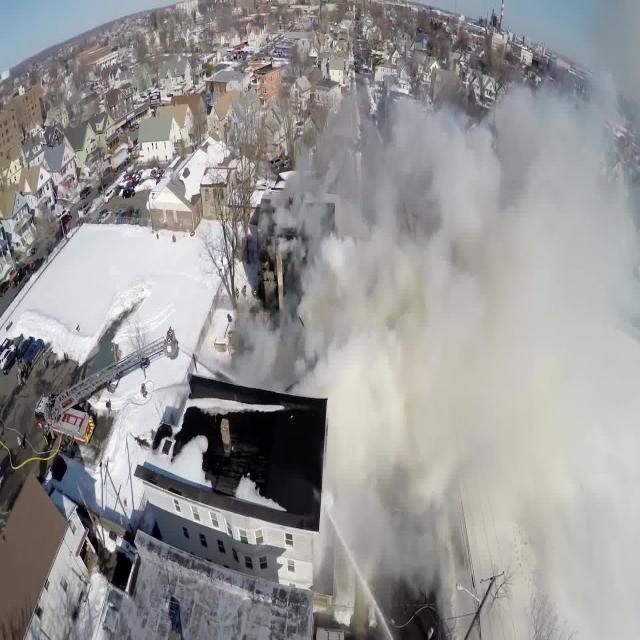Smoke: (315, 80, 640, 576)
